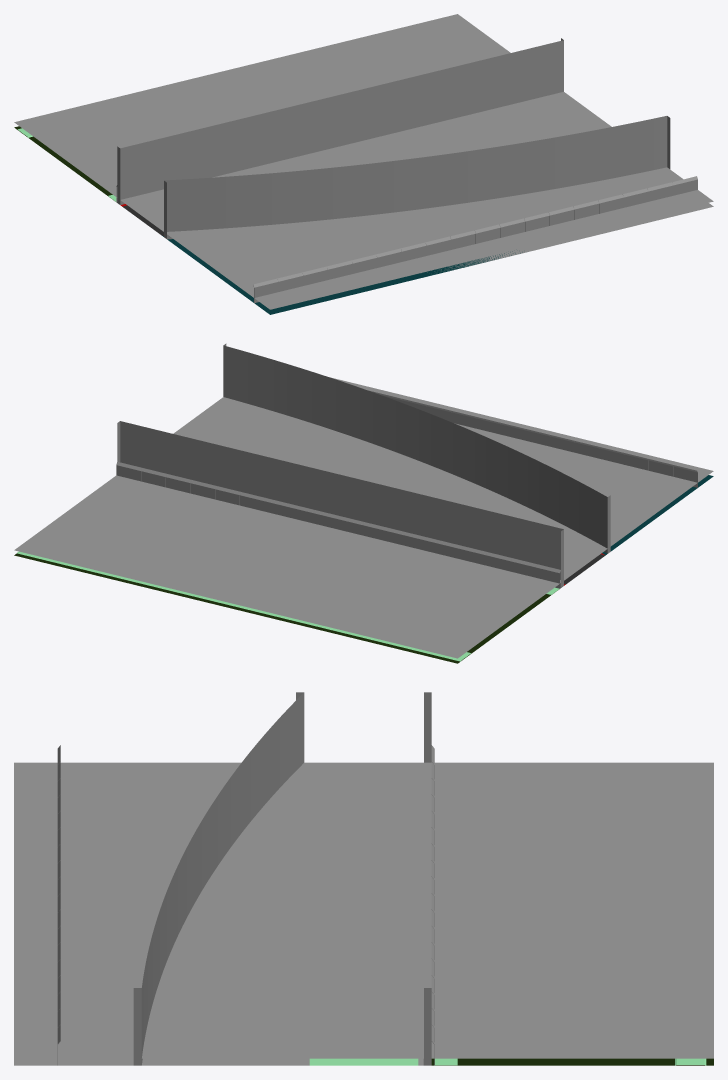
Rendered from RT Pit Line V01 T03.FBX.
3 renders of one model, top to bottom at view 1: azimuth 30°, elevation 25°; view 2: azimuth 150°, elevation 25°; view 3: azimuth 270°, elevation 25°, orthographic. The views are drawn at different scales.
Parts seen in each view (by area): view 1: RT Pit Line V01 T03 SNAP, RT Pit Line V01 T03 COLL I, RT Pit Line V01 T03 COLL II, RT Pit Line V01 T03 Fence Shared II, RT Pit Line V01 T03, RT Pit Line V01 T03 NAV PitAsp, RT Pit Line V01 T02 RubW II; view 2: RT Pit Line V01 T03 SNAP, RT Pit Line V01 T03 COLL I, RT Pit Line V01 T03 COLL II, RT Pit Line V01 T03 Fence Shared I, RT Pit Line V01 T03 Fence Shared II, RT Pit Line V01 T03, RT Pit Line V01 T03 SR I, RT Pit Line V01 T03 NAV PitAsp; view 3: RT Pit Line V01 T03 SNAP, RT Pit Line V01 T03 COLL I, RT Pit Line V01 T03, RT Pit Line V01 T03 RubW I, RT Pit Line V01 T03 COLL II, RT Pit Line V01 T03 Fence Shared II, RT Pit Line V01 T03 Fence Shared I.
Boxes of the visible parts, <box> form: RT Pit Line V01 T03 SNAP: <box>14,14,713,309</box>; RT Pit Line V01 T03 COLL I: <box>164,116,670,238</box>; RT Pit Line V01 T03 COLL II: <box>117,38,563,204</box>; RT Pit Line V01 T03 Fence Shared II: <box>253,176,697,302</box>; RT Pit Line V01 T03: <box>14,126,713,272</box>; RT Pit Line V01 T03 NAV PitAsp: <box>162,235,522,314</box>; RT Pit Line V01 T02 RubW II: <box>167,167,668,239</box>; RT Pit Line V01 T03 SNAP: <box>14,377,713,658</box>; RT Pit Line V01 T03 COLL I: <box>223,343,610,553</box>; RT Pit Line V01 T03 COLL II: <box>117,421,563,587</box>; RT Pit Line V01 T03 Fence Shared I: <box>116,462,560,588</box>; RT Pit Line V01 T03 Fence Shared II: <box>369,390,697,487</box>; RT Pit Line V01 T03: <box>14,553,559,663</box>; RT Pit Line V01 T03 SR I: <box>17,551,470,661</box>; RT Pit Line V01 T03 NAV PitAsp: <box>602,475,713,555</box>; RT Pit Line V01 T03 SNAP: <box>14,762,713,1058</box>; RT Pit Line V01 T03 COLL I: <box>133,692,304,1065</box>; RT Pit Line V01 T03: <box>14,1058,713,1065</box>; RT Pit Line V01 T03 RubW I: <box>423,762,431,1065</box>; RT Pit Line V01 T03 COLL II: <box>424,692,431,1065</box>; RT Pit Line V01 T03 Fence Shared II: <box>57,746,60,1043</box>; RT Pit Line V01 T03 Fence Shared I: <box>431,746,434,1043</box>.
Size of the model in its own units: 90 by 11 by 90.
